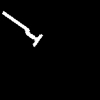half_double_crochet: (2, 12, 42, 45)
